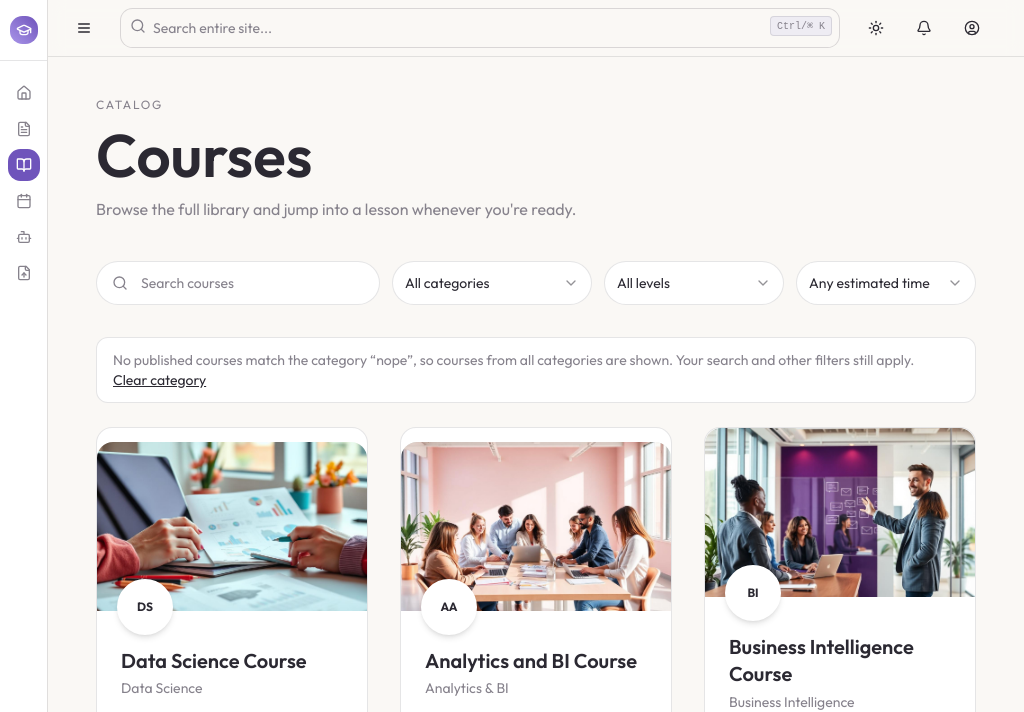
Scenario: CourseList category selector <-> URL and history › Clear category on the unknown notice returns to All and drops the parameter
Expected: the message is shown, [96,337,976,403]
Click the button "Clear category": (160, 380) [113,370,206,390]
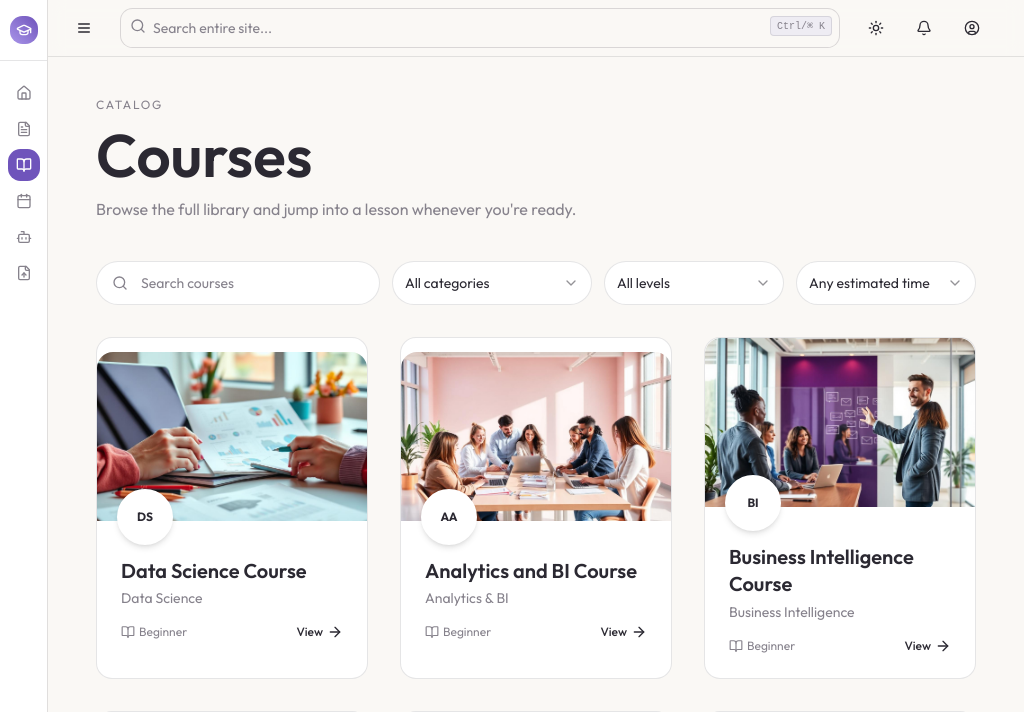
Expected: the message is gone
